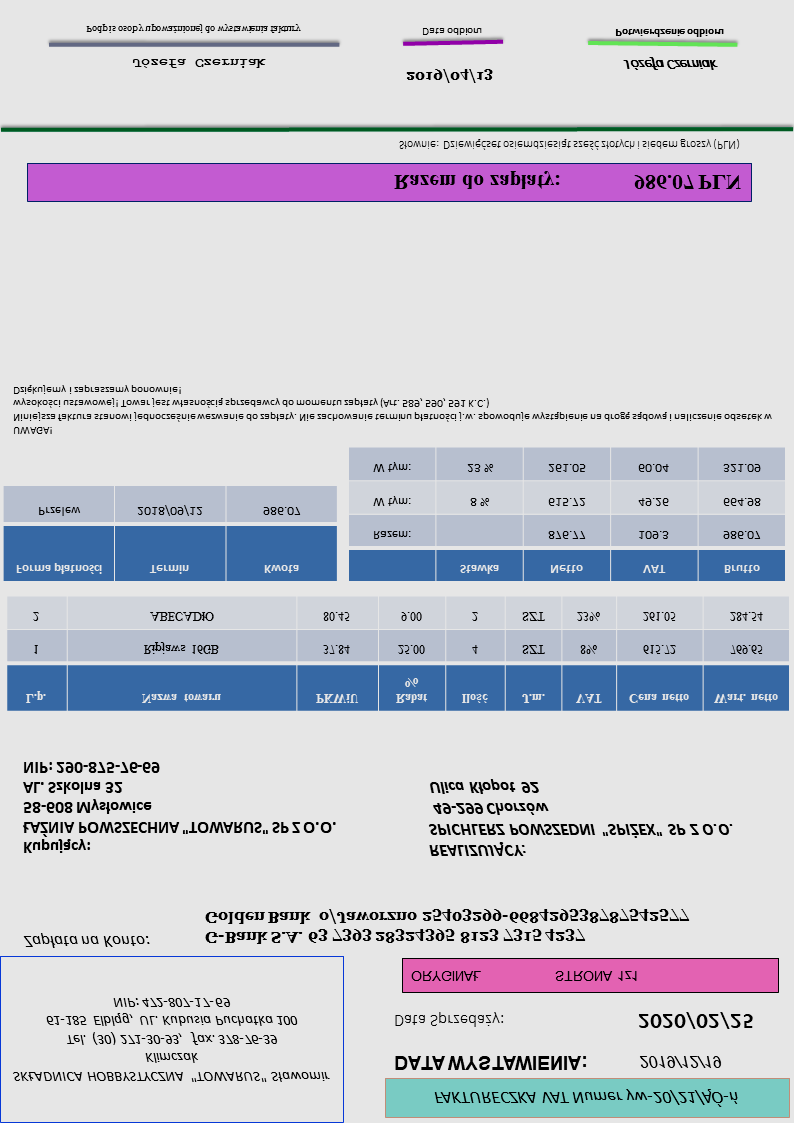Table: (5, 593, 789, 715), (348, 445, 788, 583), (2, 483, 337, 583)
TextBox: (10, 381, 775, 440), (20, 759, 338, 859), (7, 993, 334, 1088), (426, 776, 736, 862), (202, 903, 692, 950), (391, 169, 742, 196), (429, 1085, 743, 1112), (396, 135, 744, 155), (407, 966, 643, 988), (391, 1051, 590, 1076), (83, 22, 303, 38), (635, 1010, 756, 1035), (392, 1009, 506, 1033), (22, 933, 150, 953), (129, 56, 267, 72), (635, 1051, 726, 1075), (619, 55, 720, 76), (402, 64, 494, 87), (612, 24, 728, 41), (418, 25, 485, 40)
